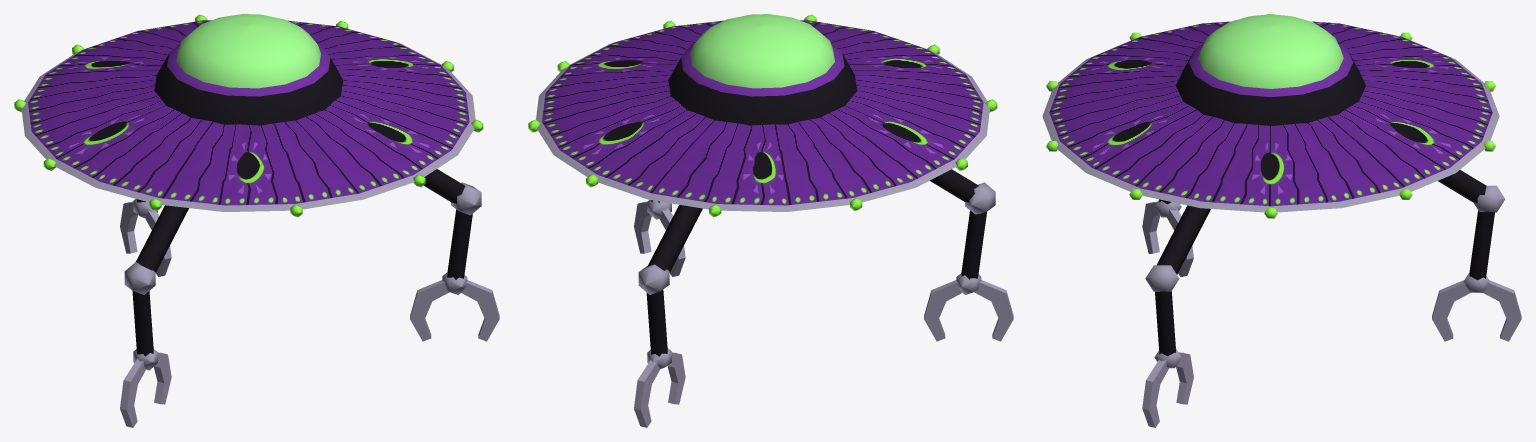
File: grappler.obj
3 renders of one model, left to right at view 1: azimuth 30°, elevation 25°; view 2: azimuth 150°, elevation 25°; view 3: azimuth 270°, elevation 25°, orthographic.
Parts seen in each view (by area): view 1: disc, dome, hub, claw, arm, joint, rim_light; view 2: disc, dome, hub, claw, arm, joint, rim_light; view 3: disc, dome, hub, claw, arm, joint, rim_light.
Part boxes in pixels (x1,y1,x2,y2): disc: [21, 20, 475, 211]; dome: [176, 14, 320, 88]; hub: [154, 43, 343, 125]; claw: [120, 201, 499, 427]; arm: [132, 169, 472, 356]; joint: [124, 182, 481, 370]; rim_light: [14, 14, 483, 217]; disc: [536, 20, 989, 211]; dome: [690, 14, 834, 88]; hub: [668, 43, 857, 125]; claw: [634, 201, 1013, 427]; arm: [646, 169, 986, 356]; joint: [638, 182, 995, 368]; rim_light: [528, 14, 997, 217]; disc: [1042, 21, 1499, 212]; dome: [1198, 14, 1343, 88]; hub: [1176, 43, 1365, 125]; claw: [1142, 201, 1521, 427]; arm: [1155, 170, 1494, 356]; joint: [1145, 185, 1505, 368]; rim_light: [1046, 14, 1495, 218].
Bounding box in the file's own units: 20.51 × 15.15 × 20.96.
Materials: 6 (1 with a texture image).
